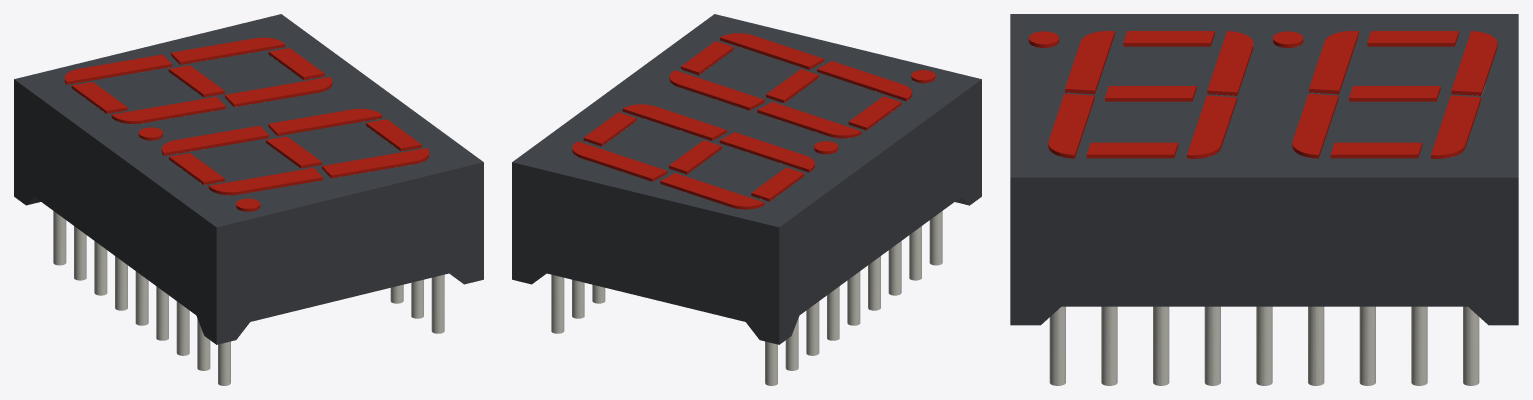
File: kc-da56-11surkwa.glb
3 renders of one model, left to right at view 1: azimuth 30°, elevation 25°; view 2: azimuth 150°, elevation 25°; view 3: azimuth 270°, elevation 25°, orthographic. The views are drawn at different scales.
Parts seen in each view (by area): view 1: 0.08333333333333333_0.08333333333333333_0.08333333333333333_, 0.4166666666666667_0_0_0, 0.6666666666666666_0.6666666666666666_0.5833333333333334_0.8; view 2: 0.08333333333333333_0.08333333333333333_0.08333333333333333_, 0.4166666666666667_0_0_0, 0.6666666666666666_0.6666666666666666_0.5833333333333334_0.8; view 3: 0.08333333333333333_0.08333333333333333_0.08333333333333333_, 0.4166666666666667_0_0_0, 0.6666666666666666_0.6666666666666666_0.5833333333333334_0.8.
Boxes of the visible parts, left/top/right/bottom form: 0.08333333333333333_0.08333333333333333_0.08333333333333333_: left=14, top=14, right=483, bottom=344; 0.4166666666666667_0_0_0: left=64, top=37, right=429, bottom=211; 0.6666666666666666_0.6666666666666666_0.5833333333333334_0.8: left=53, top=211, right=444, bottom=385; 0.08333333333333333_0.08333333333333333_0.08333333333333333_: left=512, top=14, right=981, bottom=344; 0.4166666666666667_0_0_0: left=572, top=33, right=935, bottom=209; 0.6666666666666666_0.6666666666666666_0.5833333333333334_0.8: left=551, top=211, right=942, bottom=385; 0.08333333333333333_0.08333333333333333_0.08333333333333333_: left=1010, top=14, right=1518, bottom=325; 0.4166666666666667_0_0_0: left=1028, top=31, right=1497, bottom=158; 0.6666666666666666_0.6666666666666666_0.5833333333333334_0.8: left=1049, top=306, right=1479, bottom=385.
Size of the model in its own units: 1.91 by 1.22 by 2.5.
